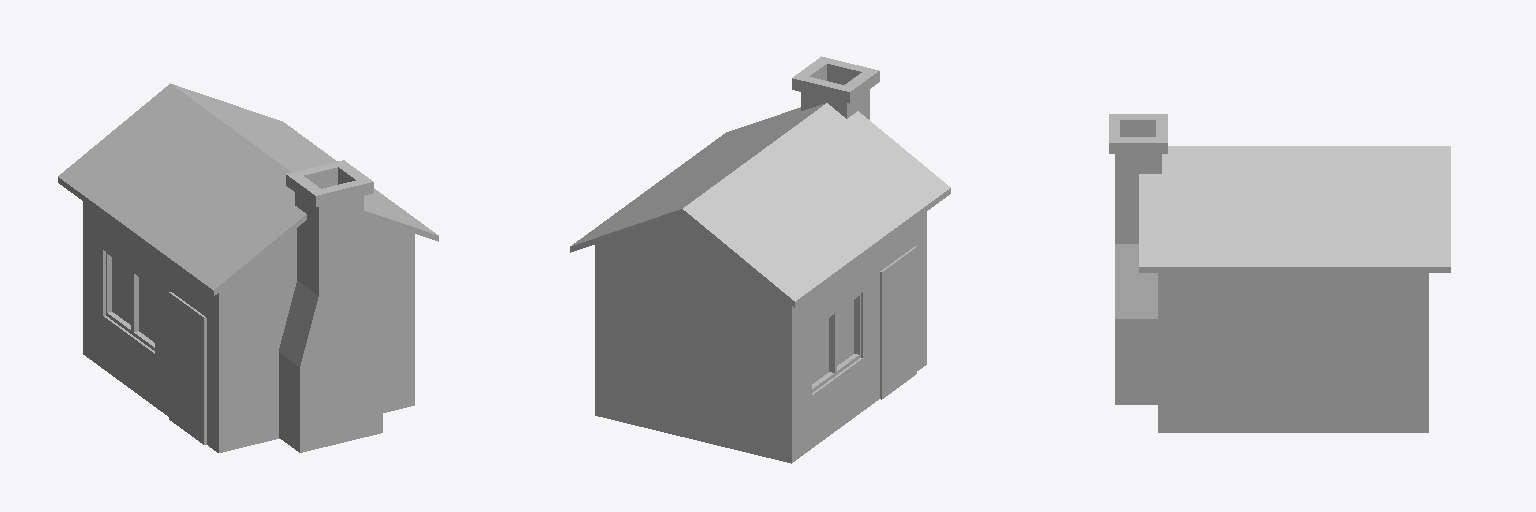
The model's file is house.obj.
The picture shows the model from 3 angles: view 1: azimuth 30°, elevation 25°; view 2: azimuth 150°, elevation 25°; view 3: azimuth 270°, elevation 25°; orthographic projection.
Parts seen in each view (by area): view 1: pCube1, pCube2, pCube4, pCube3; view 2: pCube1, pCube2, pCube3, pCube4; view 3: pCube1, pCube2, pCube4.
Boxes of the visible parts, x1,y1,x2,y2 form: pCube1: [83, 201, 414, 452]; pCube2: [58, 83, 438, 296]; pCube4: [279, 160, 382, 452]; pCube3: [169, 292, 206, 444]; pCube1: [595, 212, 926, 463]; pCube2: [570, 103, 950, 307]; pCube3: [880, 246, 916, 399]; pCube4: [792, 56, 879, 119]; pCube1: [1158, 273, 1428, 432]; pCube2: [1139, 146, 1450, 272]; pCube4: [1109, 114, 1167, 404].
Bounding box in the file's own units: 743 × 813 × 978.